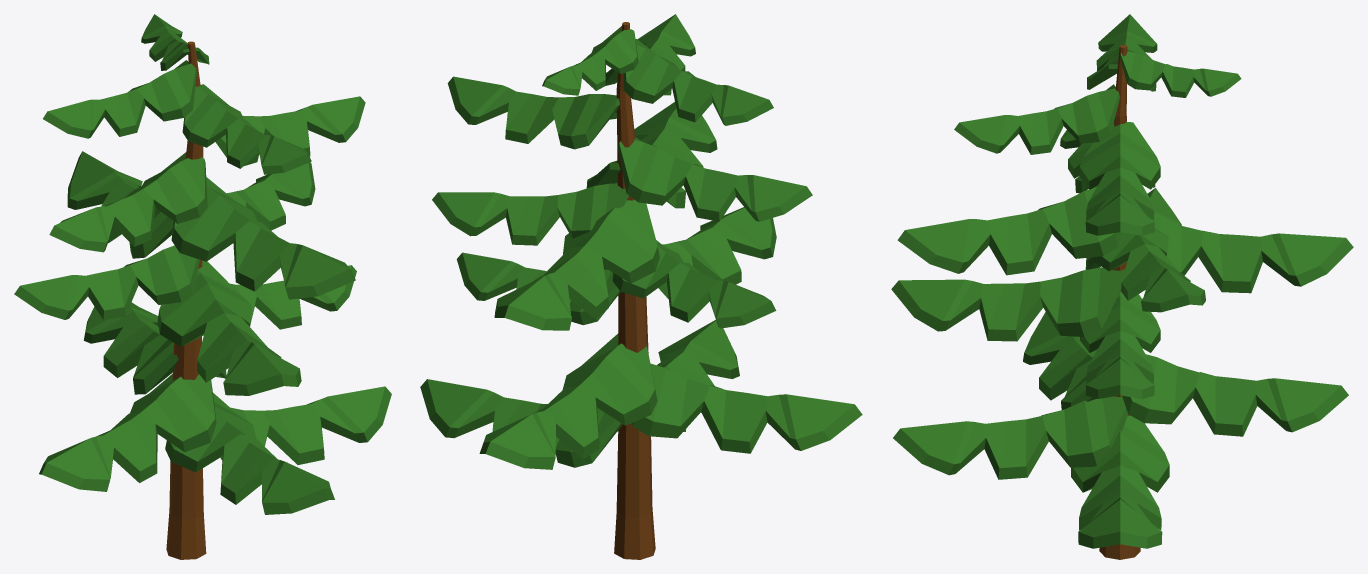
The model's file is Fir Tree Enhanced 2.fbx.
3 renders of one model, left to right at view 1: azimuth 30°, elevation 25°; view 2: azimuth 150°, elevation 25°; view 3: azimuth 270°, elevation 25°, orthographic. The views are drawn at different scales.
Parts seen in each view (by area): view 1: Fir Trunk; view 2: Fir Trunk; view 3: Fir Trunk.
Part boxes in pixels (bbox=[...]): Fir Trunk: bbox=[14, 14, 391, 559]; Fir Trunk: bbox=[420, 14, 862, 559]; Fir Trunk: bbox=[891, 14, 1353, 559].
Bounding box in the file's own units: 831 × 807 × 1007.
